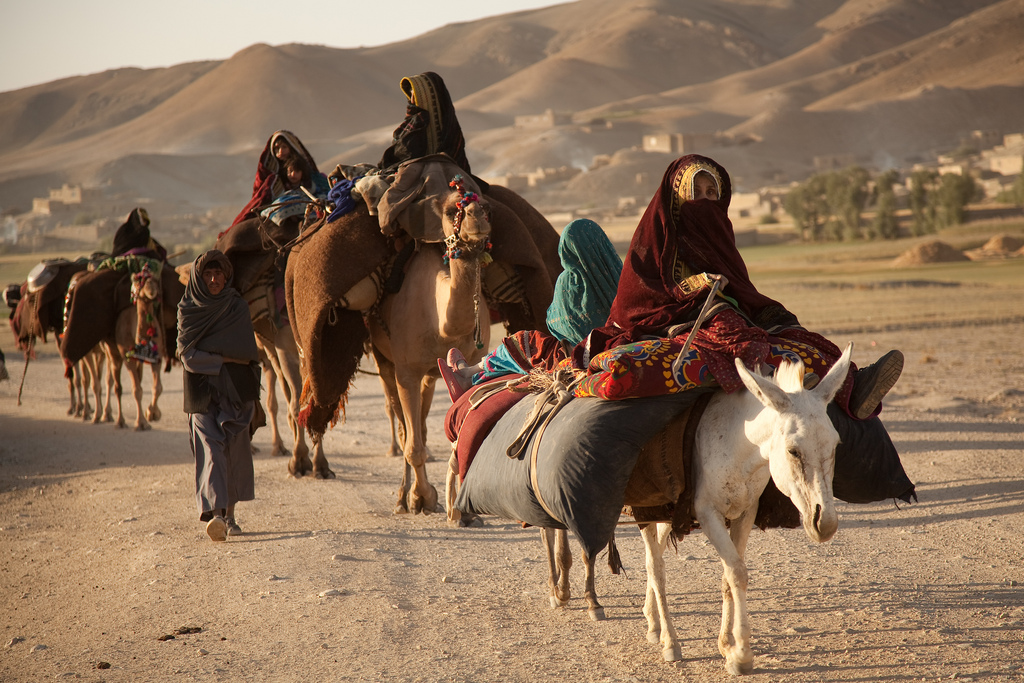human: (589, 129, 848, 359), (172, 245, 284, 555), (373, 63, 492, 180), (238, 120, 350, 230), (268, 154, 329, 195)
